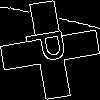P: (25, 25, 76, 67)
